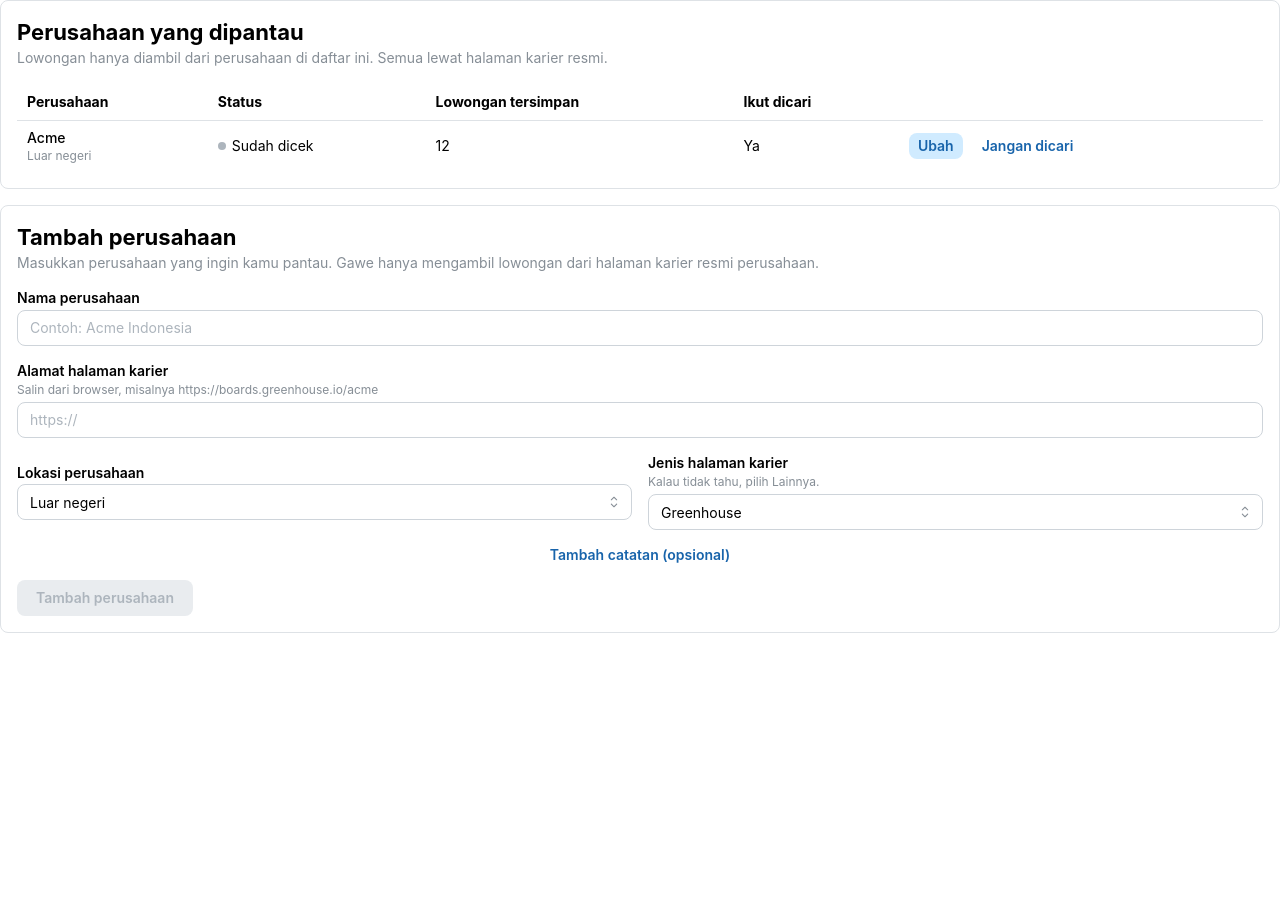
Test: SourceRegistry › maps a field validation error and clears it when the input changes
Click the button "Ubah". click: (936, 146)
box: [909,133,963,159]
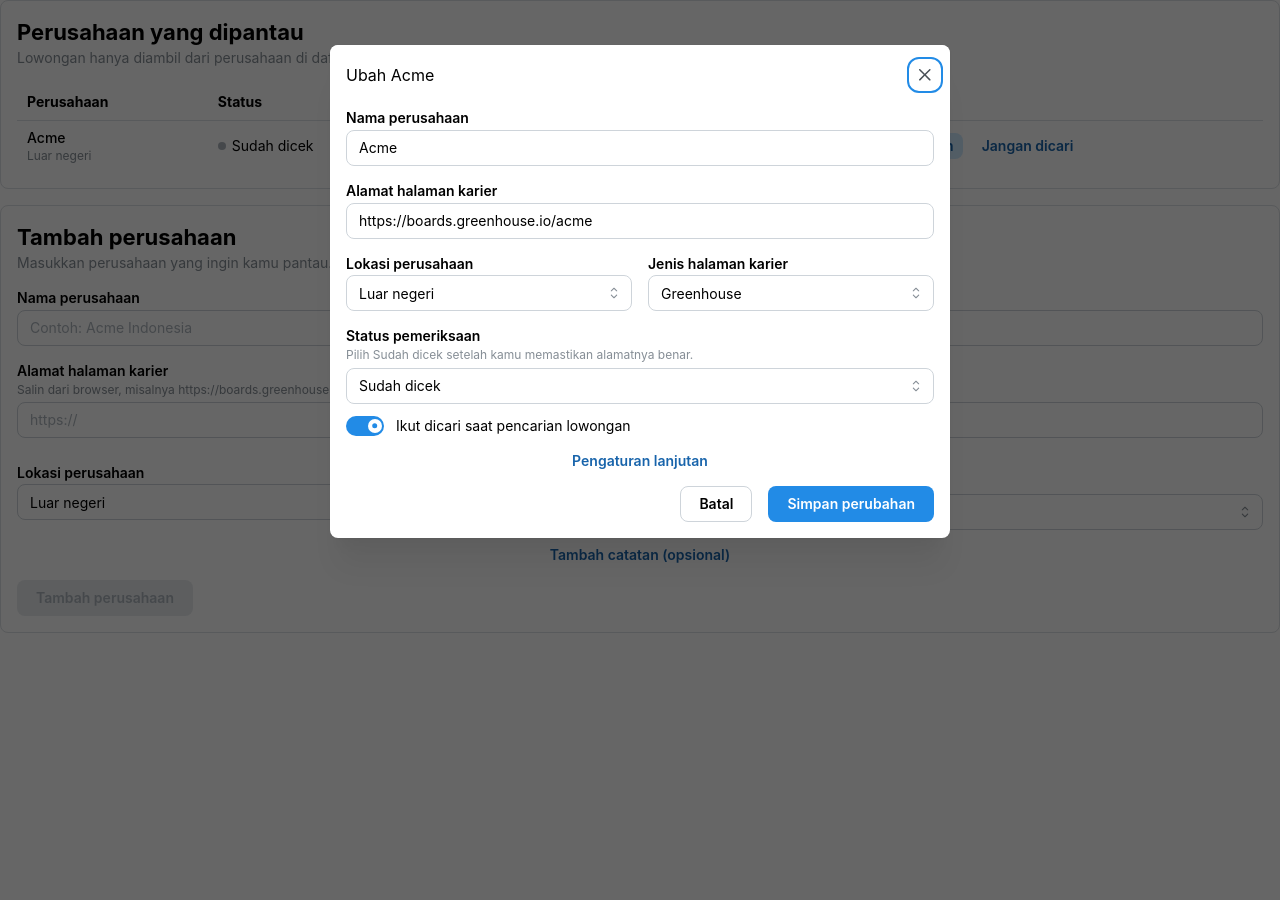
Expected: the number of fields labelled "Alamat halaman karier" is 1, [346,203,934,239]
Click the button "Simpan perubahan". click: (851, 504)
box: [768,486,934,522]
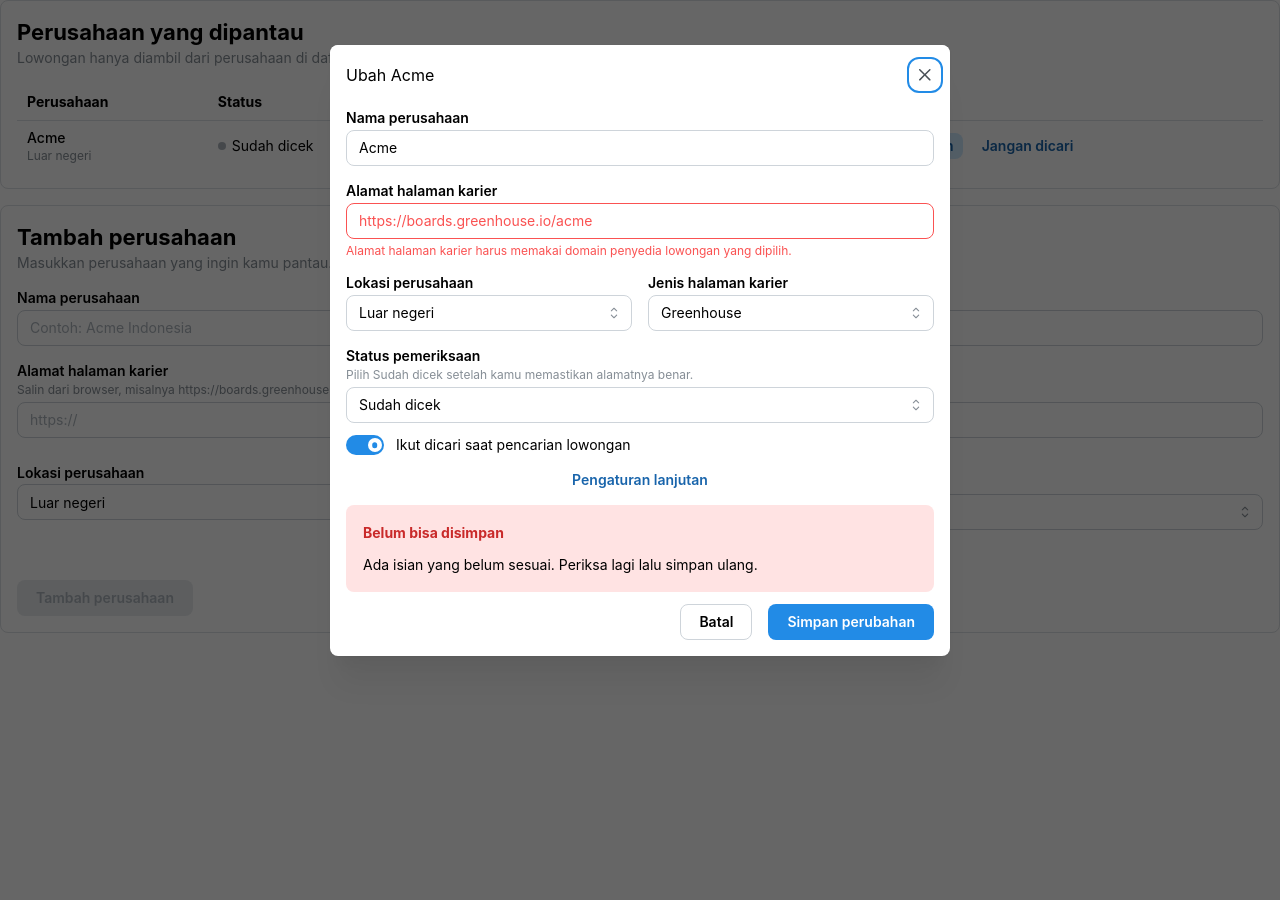
Expected: the text "Alamat halaman karier harus memakai domain penyedia lowongan yang dipilih." is shown, [346,243,792,258]
Expected: the text "Ada isian yang belum sesuai. Periksa lagi lalu simpan ulang." is shown, [363,556,758,573]
Replace the text in the field labelled "Alamat halaman karier" with "https://boards.greenhouse.io/acme-2". click: (640, 221)
box: [346,203,934,239]
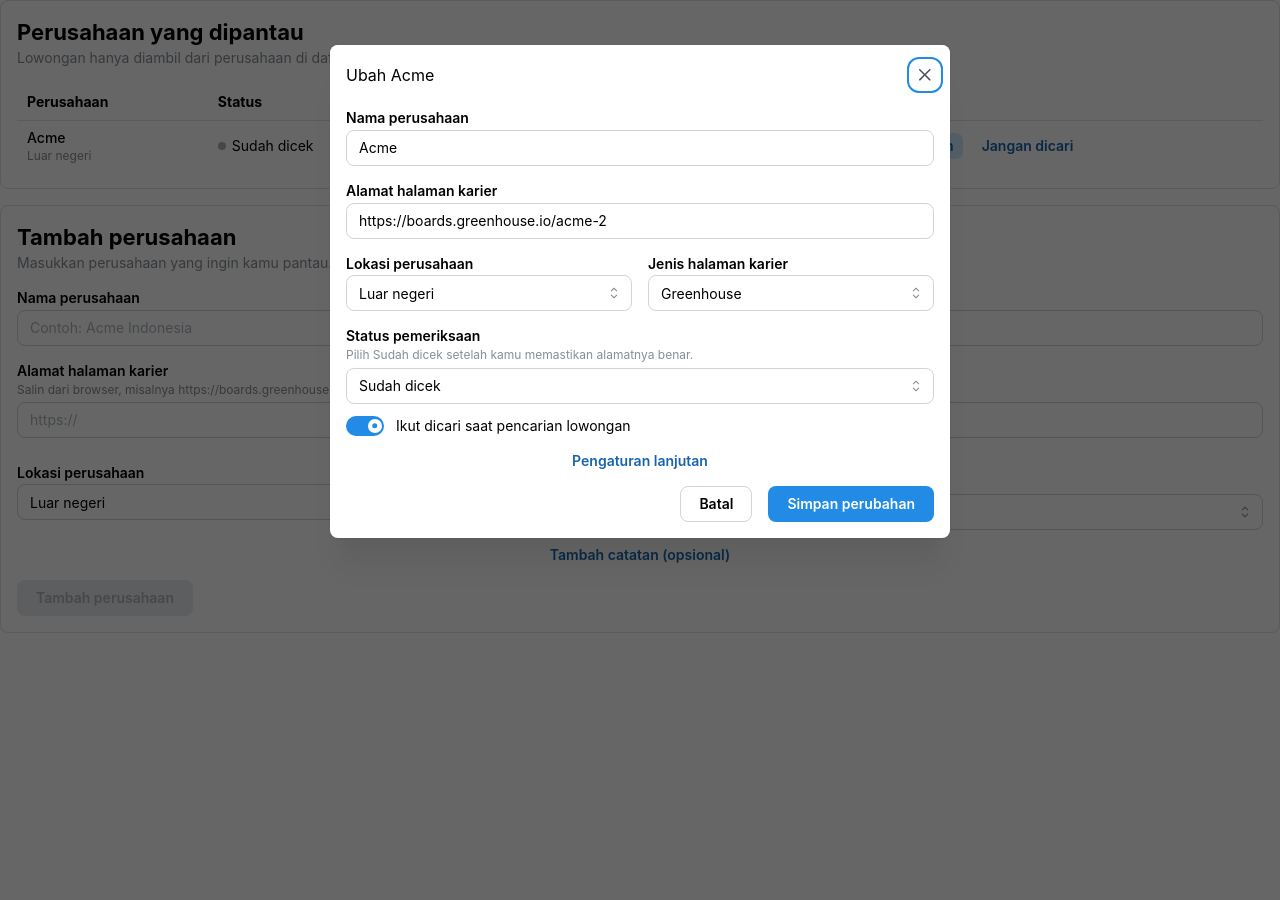
Expected: the text "Alamat halaman karier harus memakai domain penyedia lowongan yang dipilih." is gone
Expected: the text "Ada isian yang belum sesuai. Periksa lagi lalu simpan ulang." is gone
